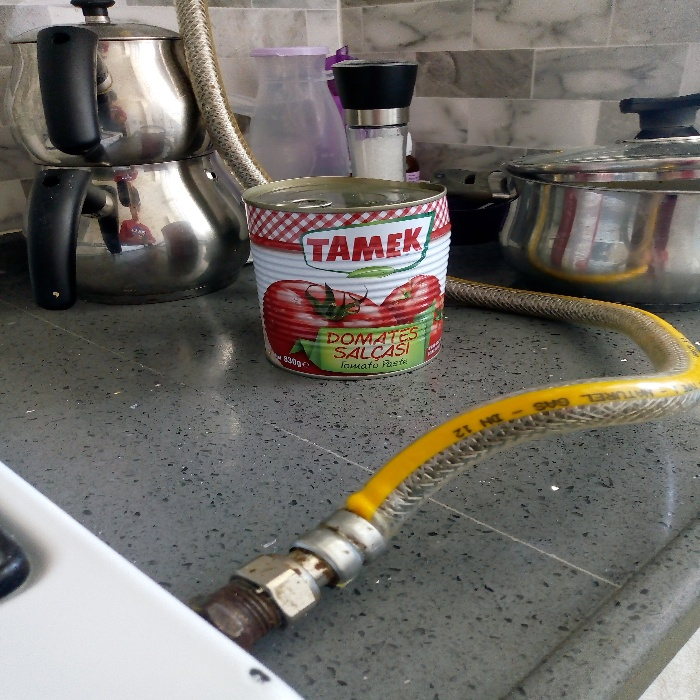salca: (234, 139, 489, 399)
